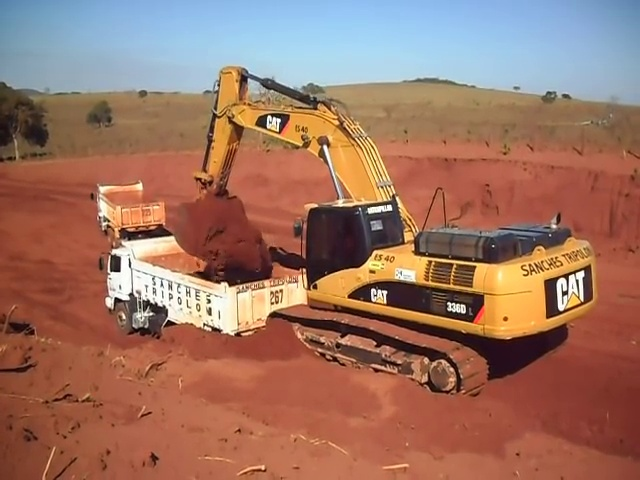excavator: (174, 67, 595, 402)
truck: (98, 239, 308, 343), (90, 180, 165, 243)
